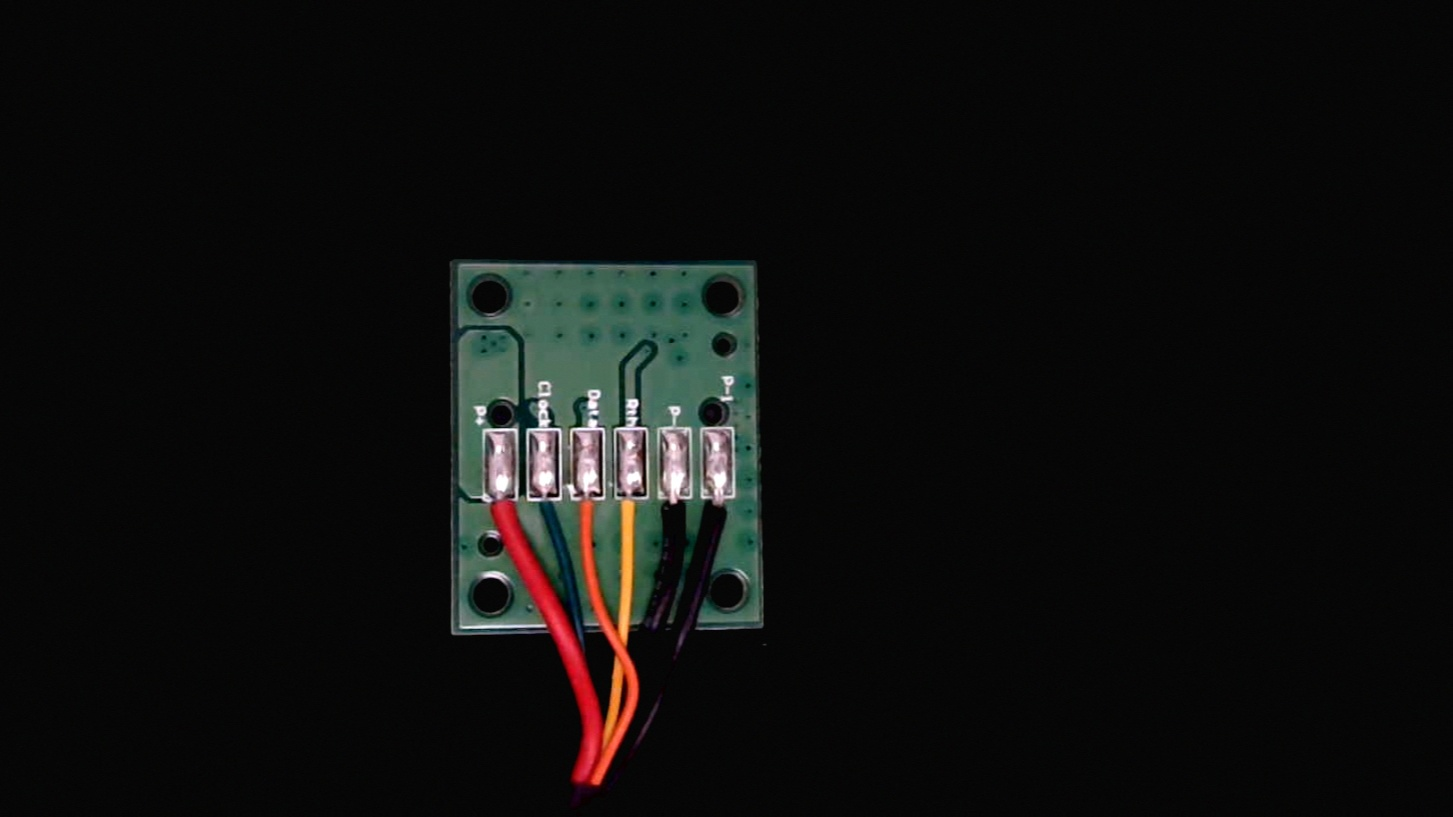Black: (662, 483, 702, 567)
Black1: (707, 483, 746, 560)
Green: (533, 483, 570, 555)
Orange: (572, 485, 611, 568)
Red: (483, 486, 522, 566)
Yellow: (616, 483, 656, 568)
